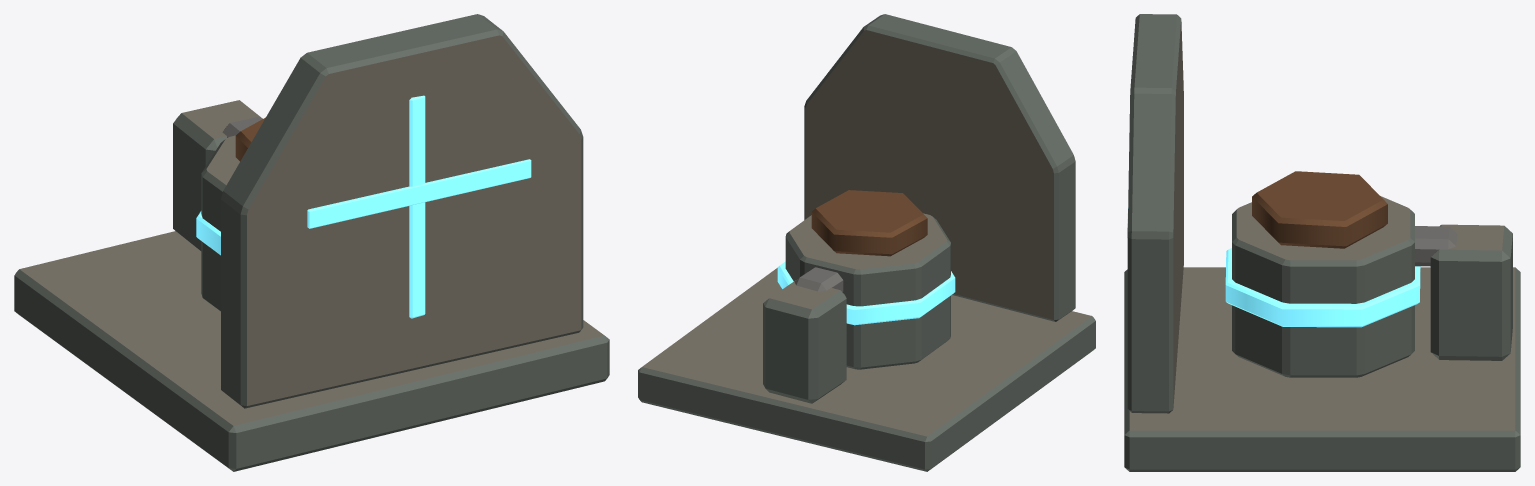
Rendered from R4X_DefensiveTurretDeployer_LOD1.fbx.
3 views of the same model, side by side, from view 1: azimuth 30°, elevation 25°; view 2: azimuth 150°, elevation 25°; view 3: azimuth 270°, elevation 25° (orthographic). The views are drawn at different scales.
Parts seen in each view (by area): view 1: R4X_DefensiveTurretDeployer_LOD1; view 2: R4X_DefensiveTurretDeployer_LOD1; view 3: R4X_DefensiveTurretDeployer_LOD1.
Part boxes in pixels (x1,y1,x2,y2): R4X_DefensiveTurretDeployer_LOD1: (14,14,609,471); R4X_DefensiveTurretDeployer_LOD1: (638,14,1095,471); R4X_DefensiveTurretDeployer_LOD1: (1124,14,1520,471).
Size of the model in its own units: 0.52 by 0.49 by 0.52.
